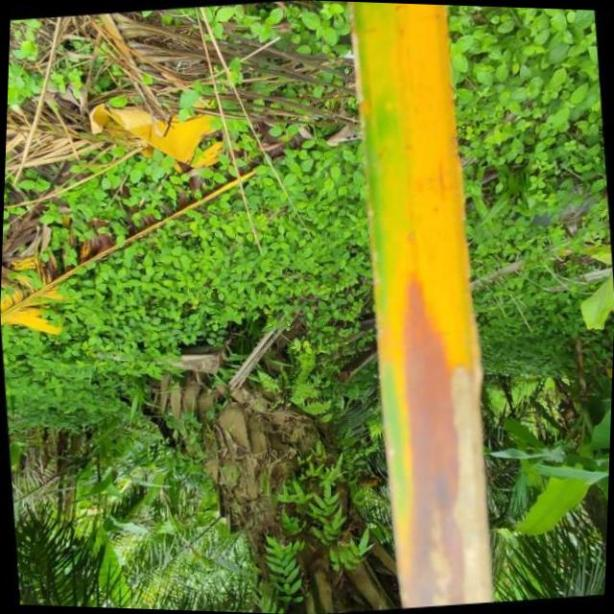Megnesium: (353, 0, 494, 614)
